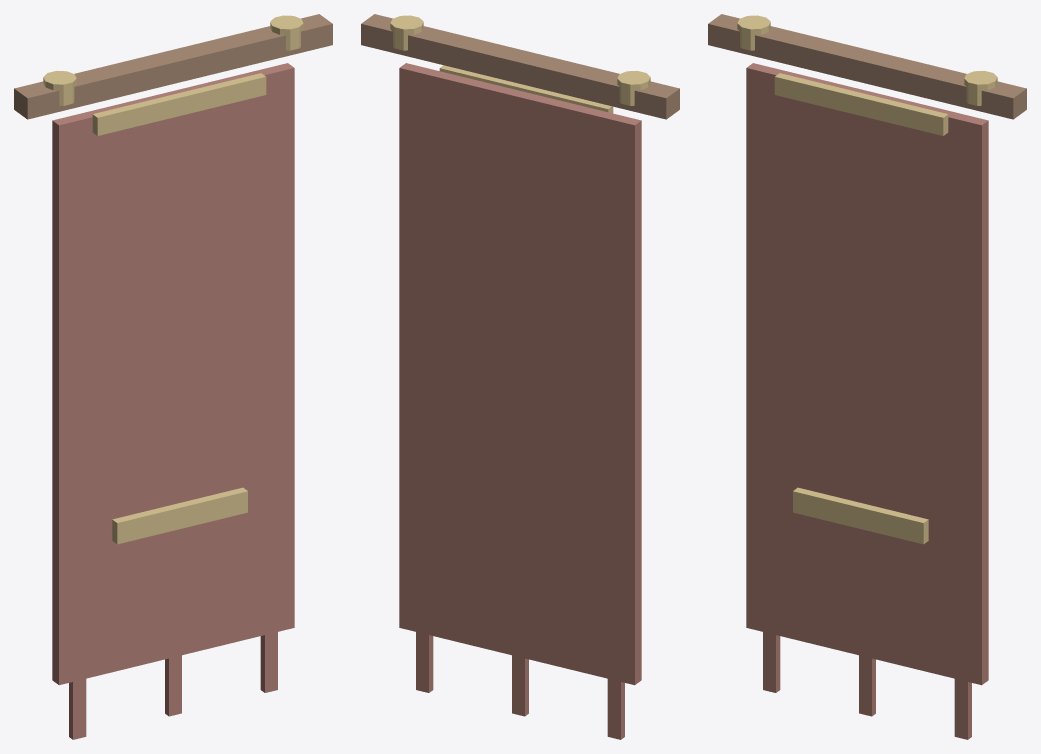
The model's file is silk_vertical_banner.glb.
3 renders of one model, left to right at view 1: azimuth 30°, elevation 25°; view 2: azimuth 150°, elevation 25°; view 3: azimuth 330°, elevation 25°, orthographic.
Visible parts, largest first — view 1: box_1, box_0, box_2, box_3, box_6, box_8, box_7, cylinder_4, cylinder_5; view 2: box_1, box_0, box_2, box_6, box_8, box_7, cylinder_4, cylinder_5; view 3: box_1, box_0, box_2, box_3, box_8, box_6, box_7, cylinder_5, cylinder_4.
Part boxes in pixels (x1,y1,x2,y2): box_1: (52,63,294,685); box_0: (14,14,332,119); box_2: (92,73,266,135); box_3: (112,487,247,544); box_6: (69,679,86,739); box_8: (260,632,277,692); box_7: (165,655,181,716); cylinder_4: (43,71,76,105); cylinder_5: (270,15,303,50); box_1: (399,63,641,685); box_0: (361,14,679,119); box_2: (439,65,613,113); box_6: (607,679,624,739); box_8: (416,632,433,692); box_7: (512,655,528,716); cylinder_4: (617,71,650,105); cylinder_5: (390,15,423,50); box_1: (746,63,988,685); box_0: (708,14,1026,119); box_2: (774,73,948,135); box_3: (793,487,928,544); box_8: (954,679,971,739); box_6: (763,632,780,692); box_7: (859,655,875,716); cylinder_5: (964,71,997,105); cylinder_4: (737,15,770,50).
Size of the model in its own units: 1.05 by 2.18 by 0.1026.
